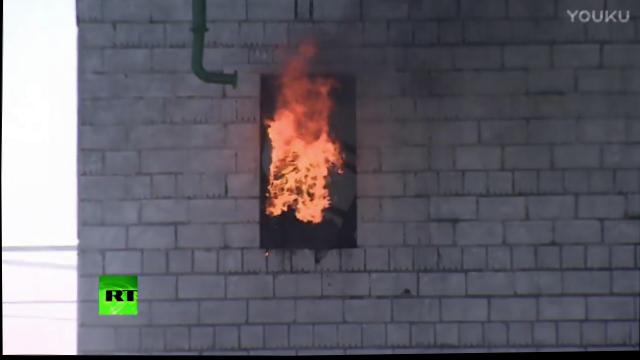fire: (263, 114, 331, 224), (276, 60, 334, 118), (289, 41, 315, 65), (326, 142, 345, 173)
